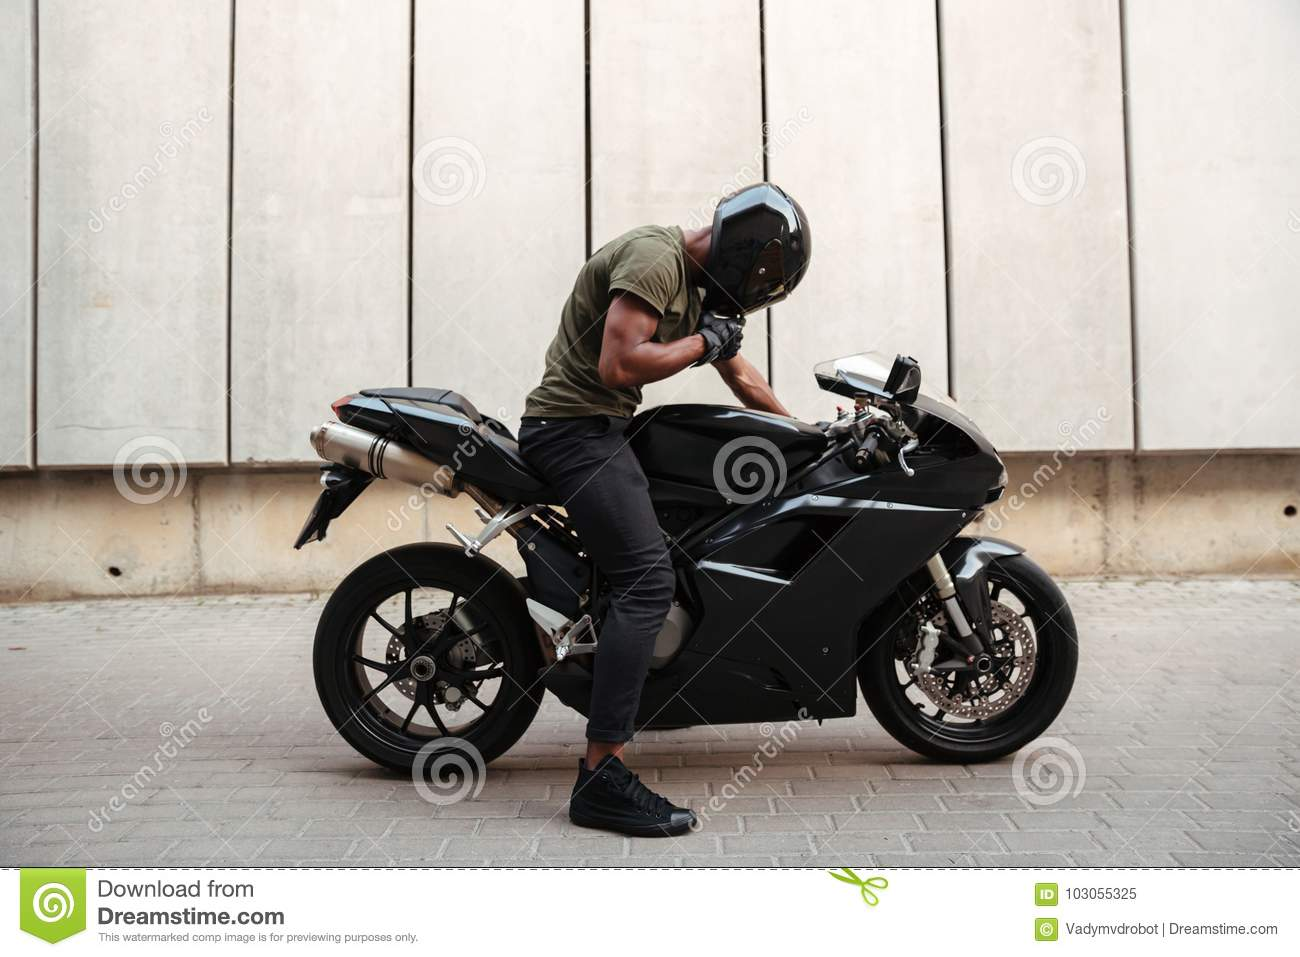helmet: (708, 186, 829, 320)
